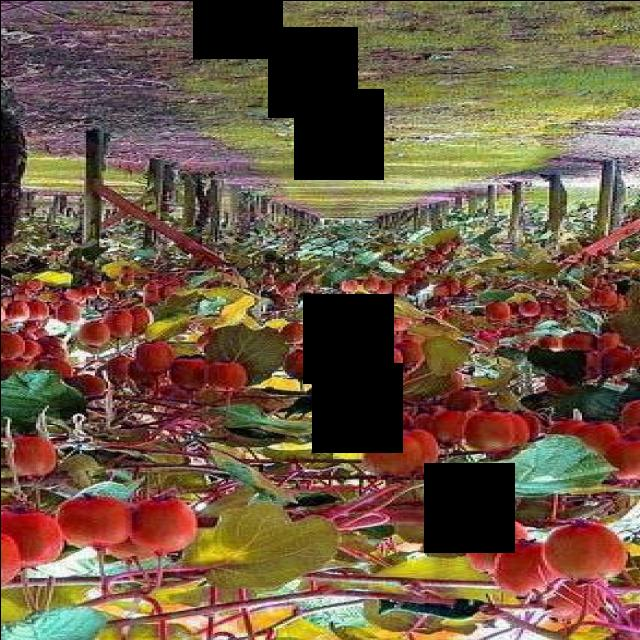kiwi: (543, 522, 635, 582), (462, 513, 536, 575), (54, 493, 135, 548), (493, 538, 561, 601), (124, 496, 200, 552), (1, 505, 62, 566), (541, 579, 609, 627), (364, 430, 425, 480), (4, 433, 65, 479), (465, 412, 519, 452), (599, 436, 640, 484), (438, 384, 508, 412), (102, 539, 163, 568), (202, 360, 252, 392), (1, 531, 25, 589), (412, 427, 442, 473), (170, 355, 207, 391), (569, 424, 619, 450), (136, 343, 176, 375), (436, 410, 469, 446), (100, 308, 137, 340), (597, 348, 639, 376), (375, 411, 419, 437), (106, 355, 139, 387), (560, 331, 600, 356), (78, 320, 113, 348), (372, 347, 405, 376), (1, 330, 29, 363), (359, 360, 394, 385), (311, 363, 344, 389), (283, 353, 316, 379), (279, 321, 312, 347), (357, 312, 390, 338), (54, 301, 84, 329), (617, 402, 640, 438), (313, 341, 346, 366), (595, 330, 628, 354), (3, 300, 34, 325), (584, 288, 619, 309), (558, 417, 591, 437), (539, 334, 569, 355), (484, 301, 512, 323), (25, 300, 49, 325), (515, 302, 545, 322), (386, 317, 416, 335), (344, 348, 362, 374), (617, 423, 640, 441), (60, 287, 84, 304), (338, 279, 362, 295), (359, 277, 381, 293), (377, 280, 395, 298)
